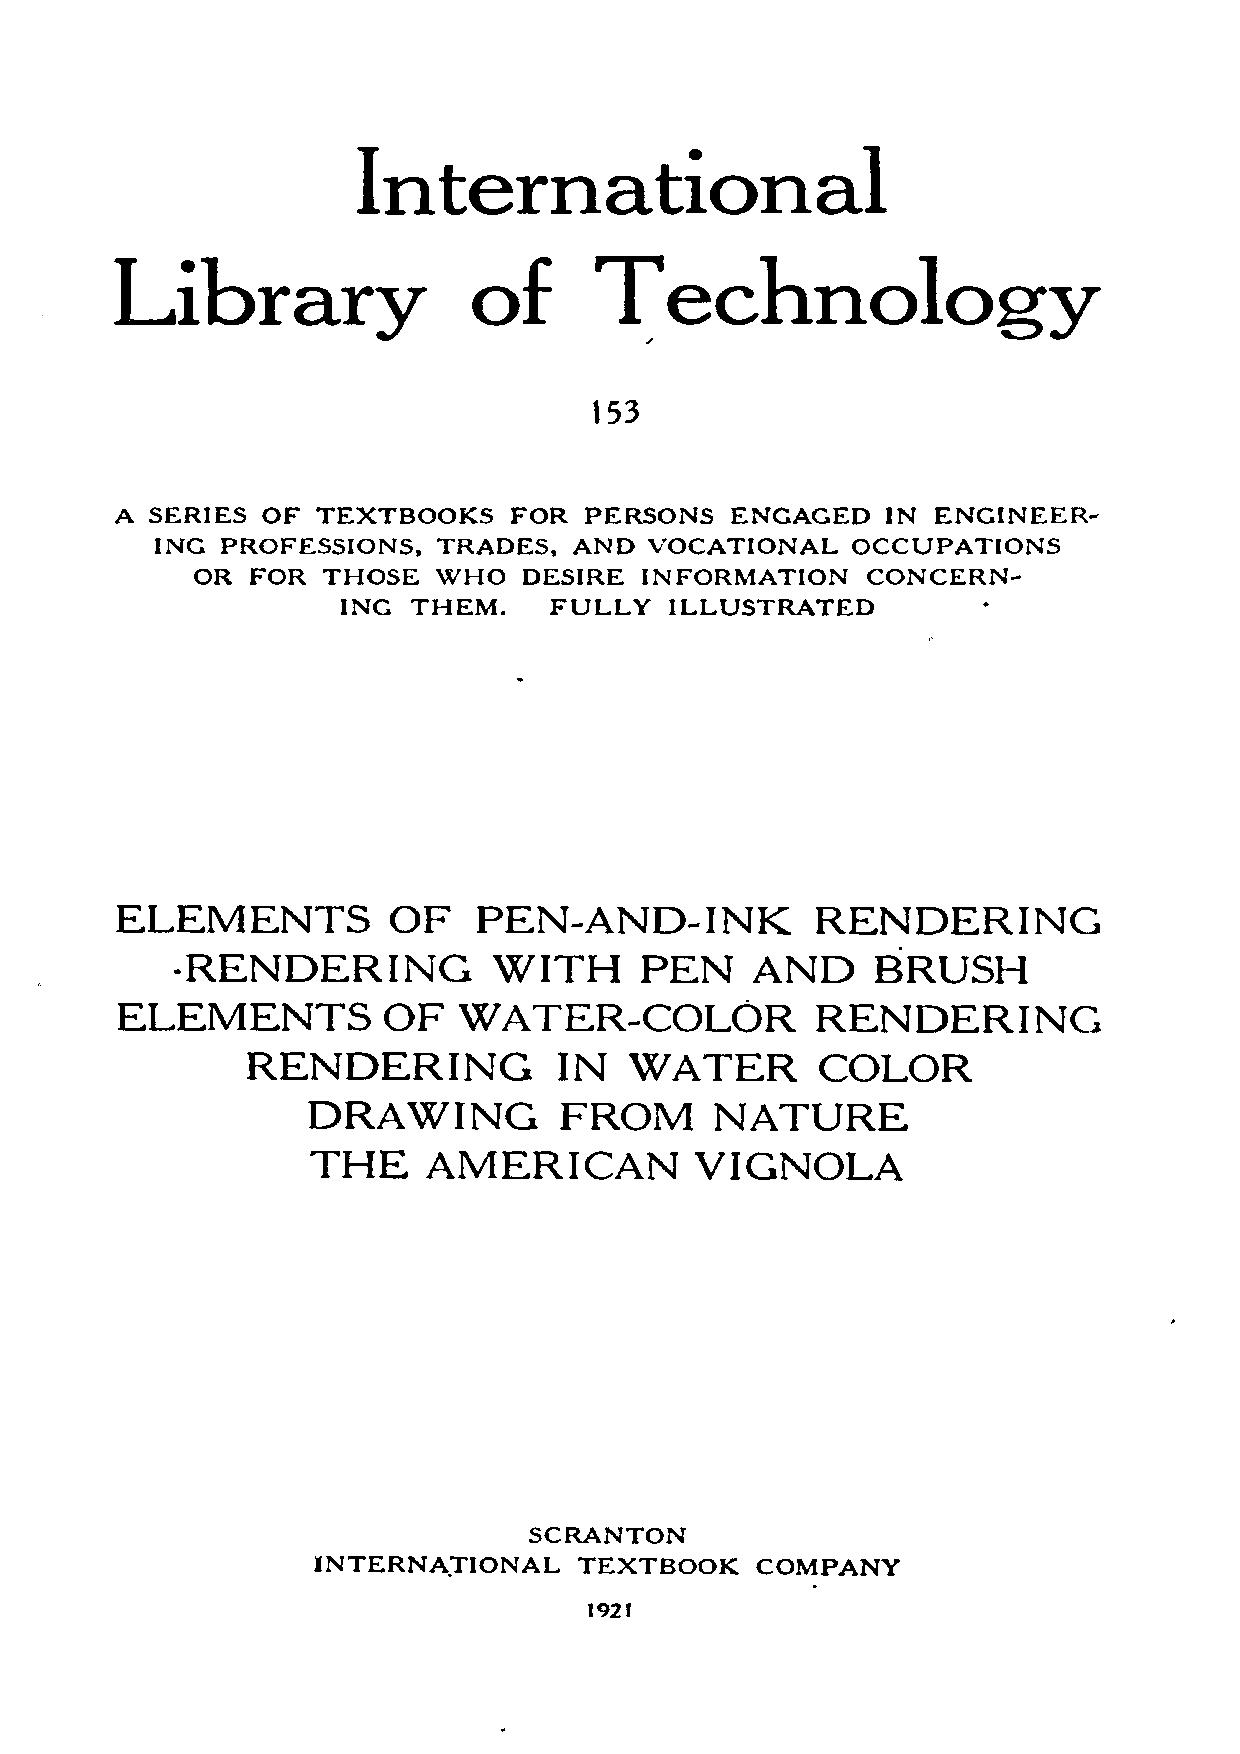title: (111, 144, 1100, 344)
